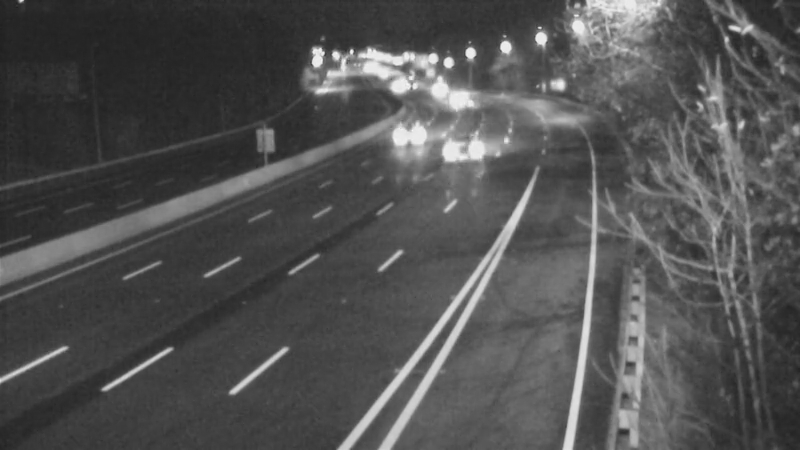vehicle: (369, 64, 419, 114), (411, 64, 461, 114), (431, 73, 481, 123), (432, 83, 482, 133), (380, 109, 430, 159), (440, 124, 490, 174)
